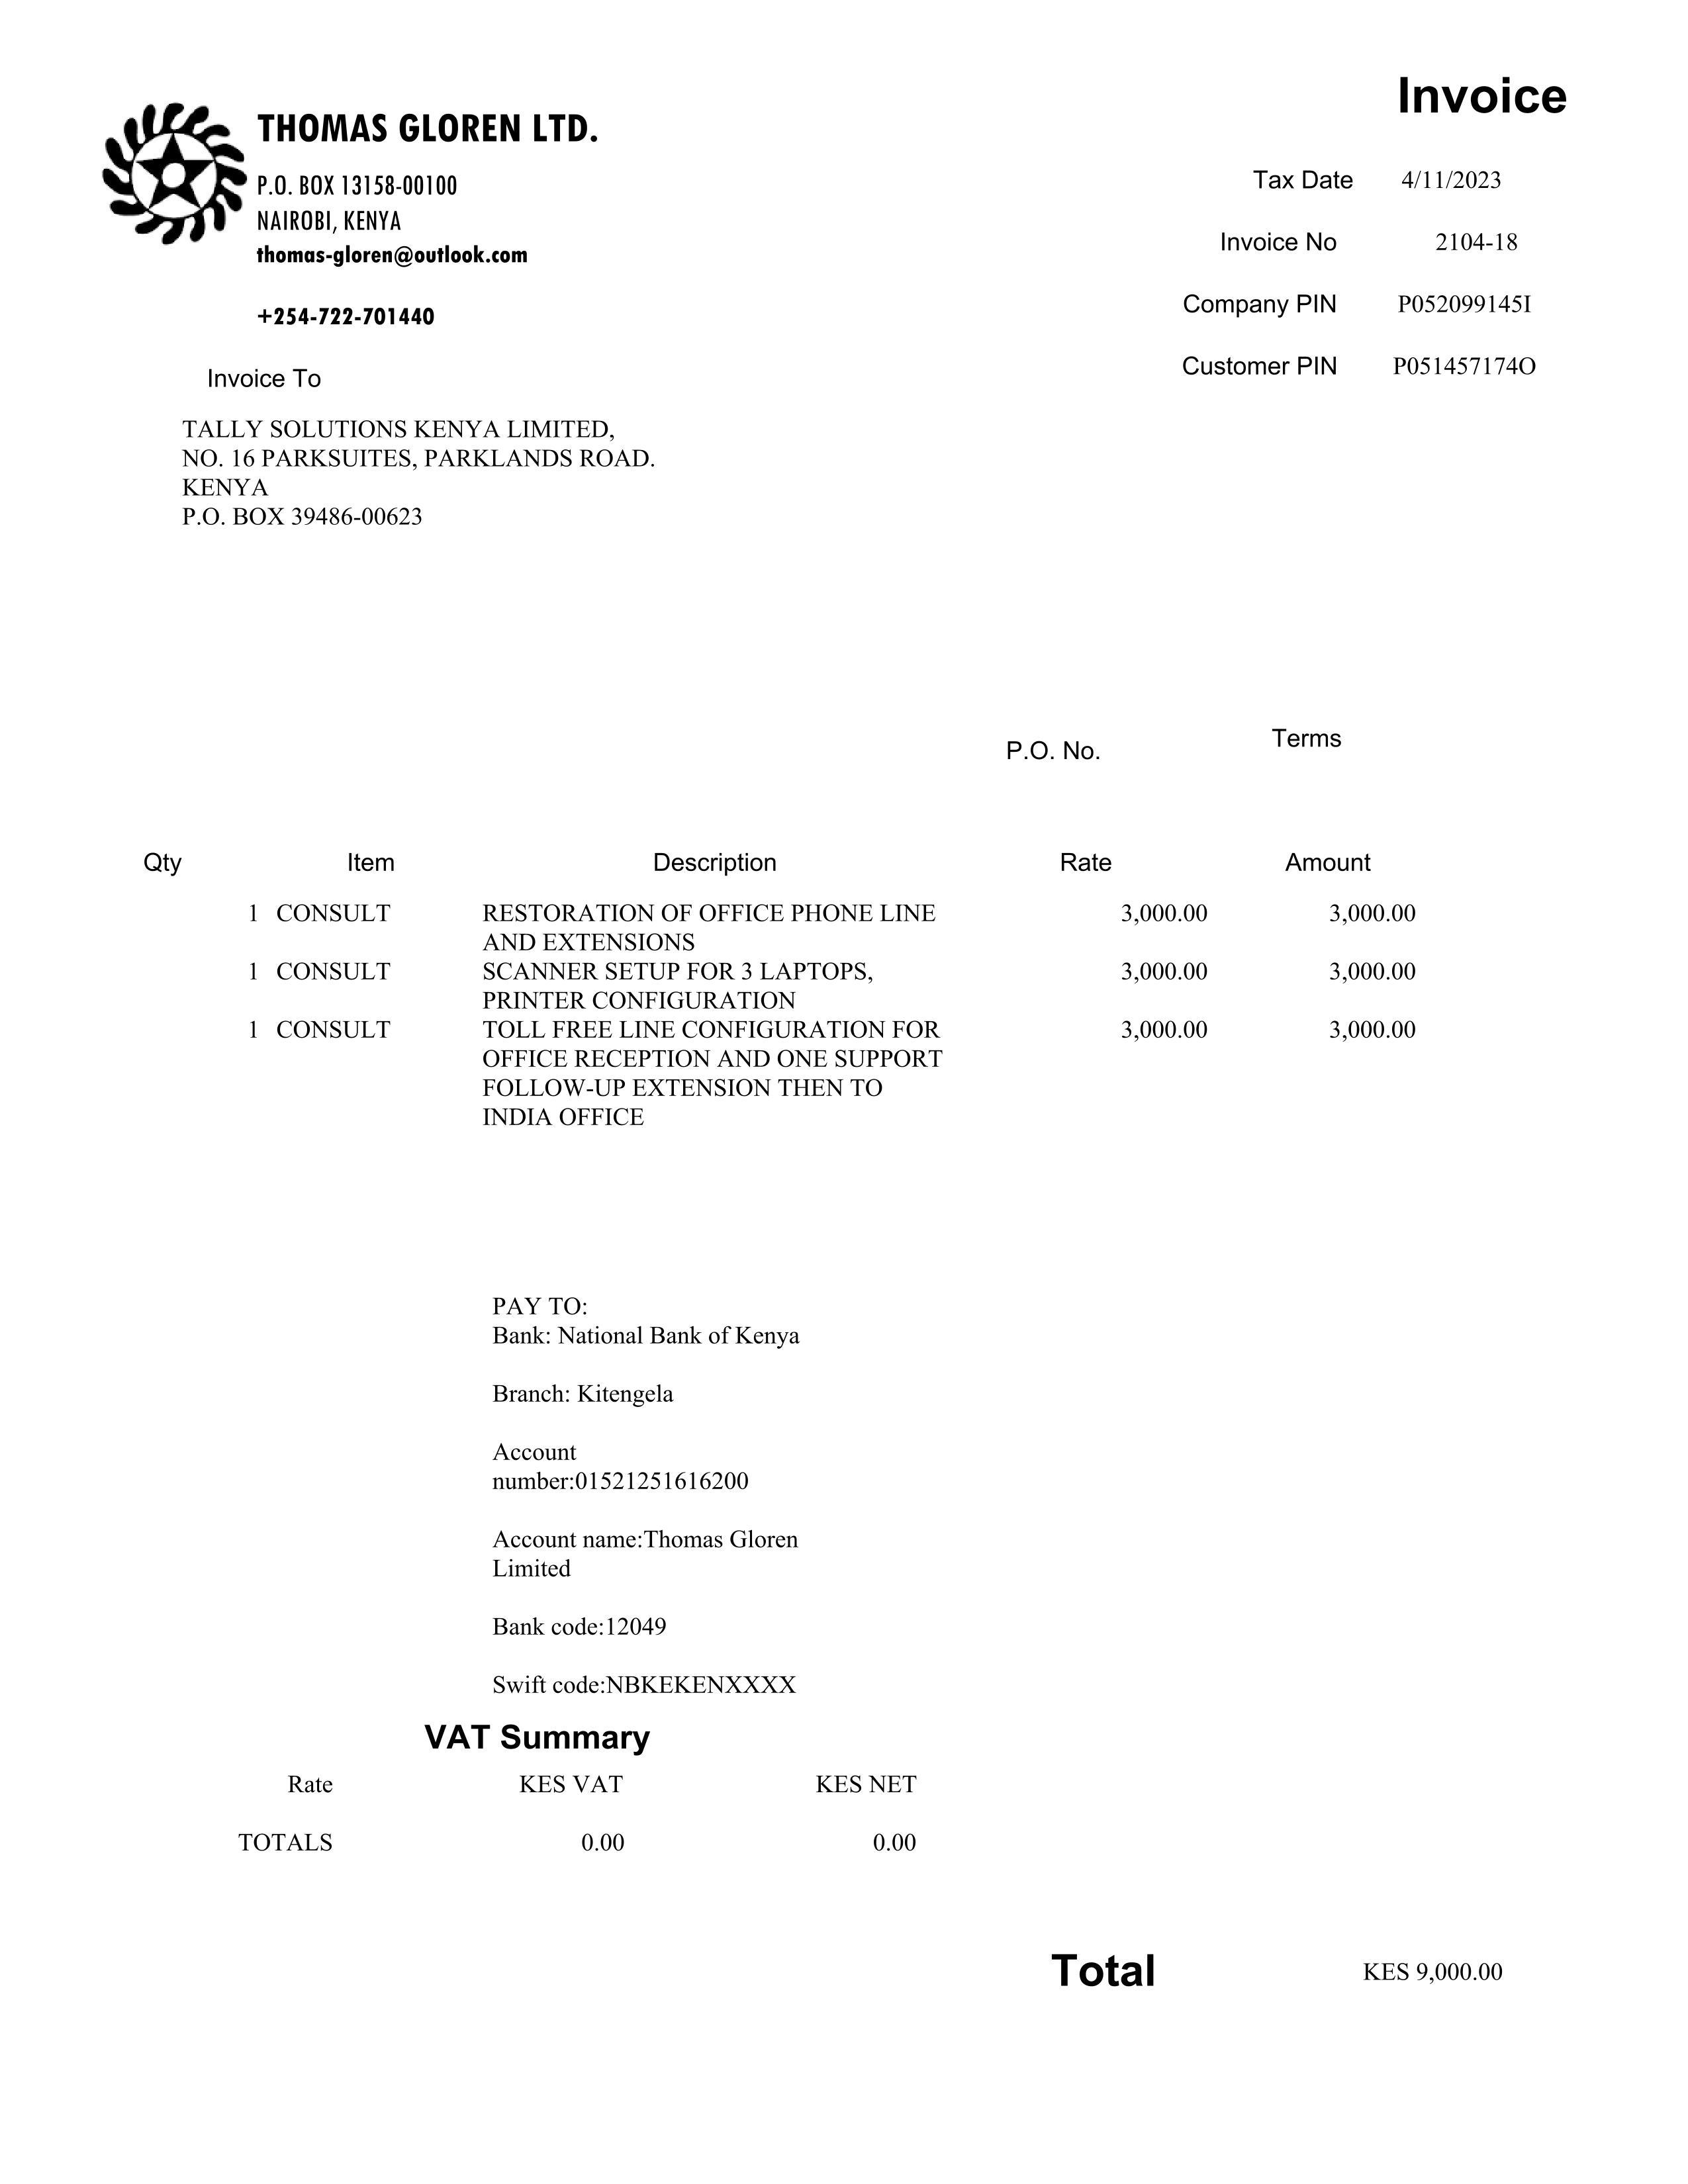InvoiceDate: (1388, 147, 1527, 206)
InvoiceNumber: (1394, 213, 1546, 269)
TotalAmount: (1335, 1939, 1523, 2003)
